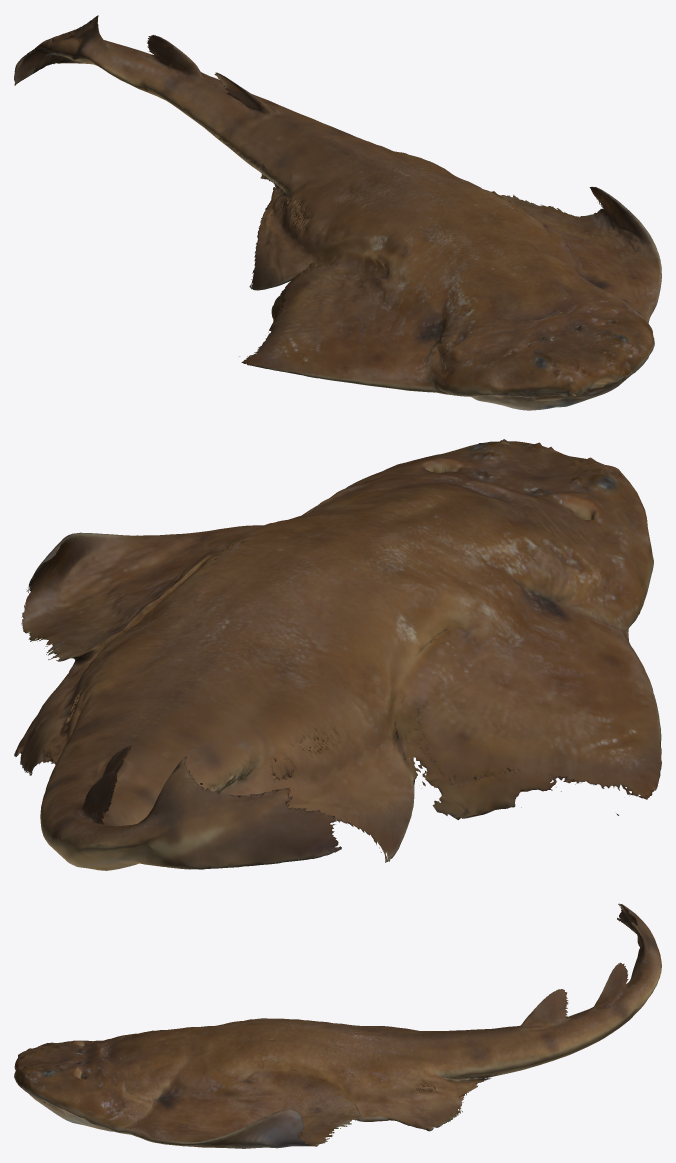
File: angel.glb
3 renders of one model, top to bottom at view 1: azimuth 30°, elevation 25°; view 2: azimuth 150°, elevation 25°; view 3: azimuth 270°, elevation 25°, orthographic. The views are drawn at different scales.
Visible parts, largest first — view 1: Object_2; view 2: Object_2; view 3: Object_2.
Boxes of the visible parts, left/top/right/bottom form: Object_2: left=14, top=15, right=661, bottom=410; Object_2: left=14, top=439, right=661, bottom=870; Object_2: left=14, top=903, right=661, bottom=1148.
Size of the model in its own units: 0.5357 by 0.2336 by 0.9258.
1 material, 1 textured.
